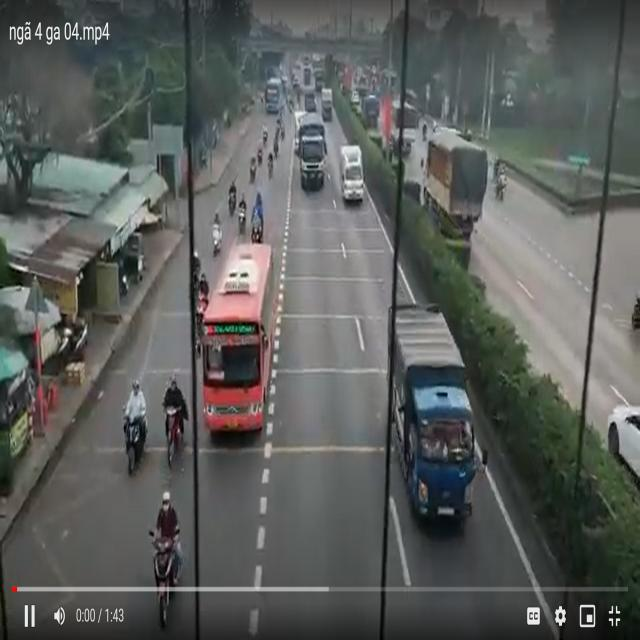bus: (207, 246, 268, 431), (264, 74, 280, 111)
motor: (152, 495, 178, 610), (124, 382, 144, 476), (162, 374, 183, 463), (252, 190, 268, 239), (211, 204, 221, 245), (238, 194, 247, 228)
truck: (390, 305, 476, 532), (424, 137, 482, 239), (299, 117, 325, 195), (341, 145, 364, 207), (391, 109, 418, 141)
